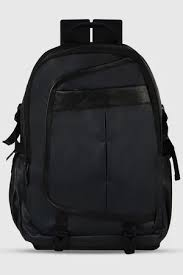backpack: (2, 18, 180, 253)
